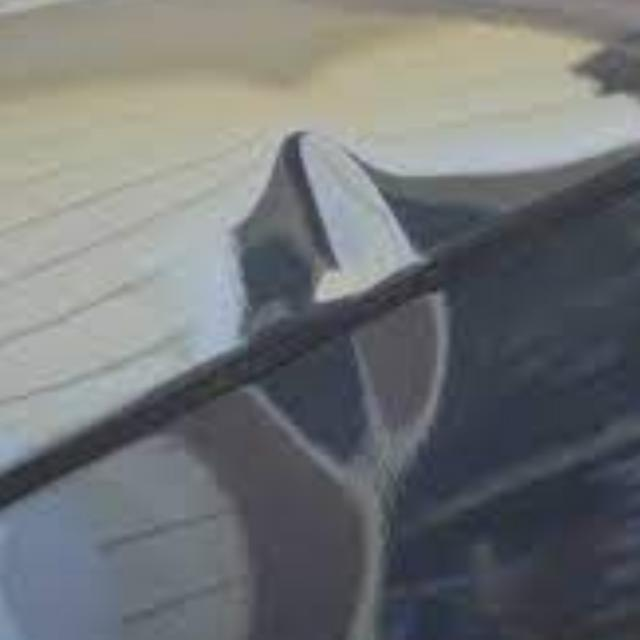dents: (228, 129, 476, 504)
